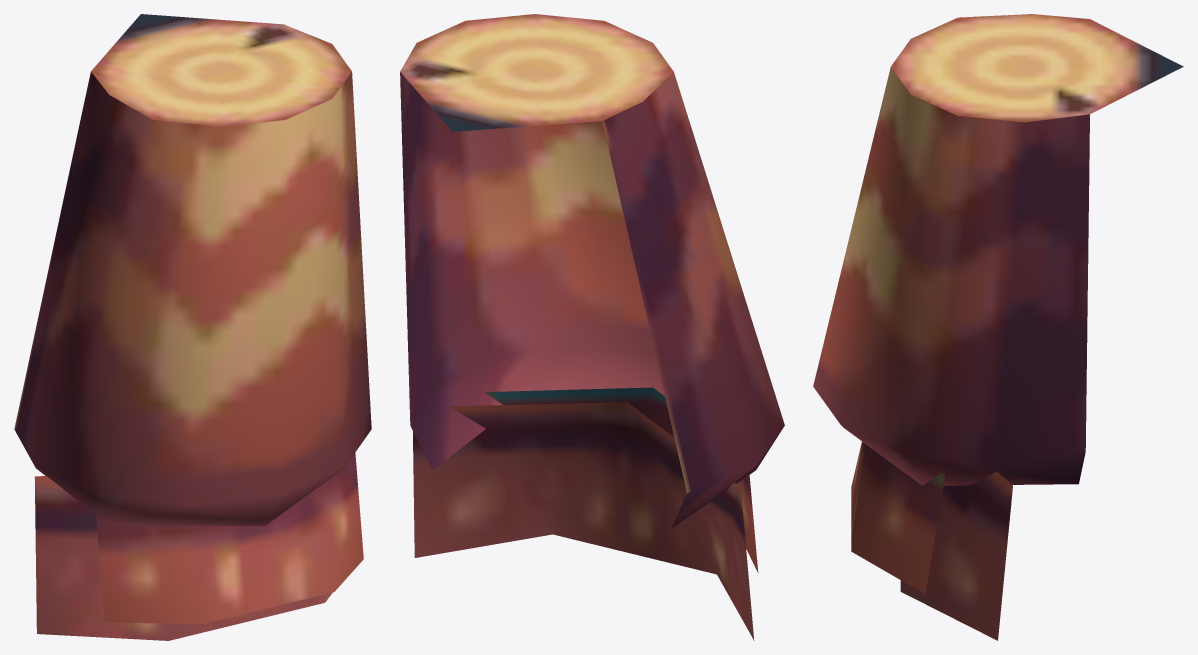
The model's file is fg_treeC_3_b.dae.
3 views of the same model, side by side, from view 1: azimuth 30°, elevation 25°; view 2: azimuth 150°, elevation 25°; view 3: azimuth 270°, elevation 25° (orthographic). The views are drawn at different scales.
Parts seen in each view (by area): view 1: fg_treeC_3_b; view 2: fg_treeC_3_b; view 3: fg_treeC_3_b.
Boxes of the visible parts, x1,y1,x2,y2 form: fg_treeC_3_b: (14, 14, 371, 640); fg_treeC_3_b: (400, 14, 784, 640); fg_treeC_3_b: (813, 14, 1183, 640).
Size of the model in its own units: 16.99 by 25.19 by 16.56.
Materials: 1 (1 with a texture image).
